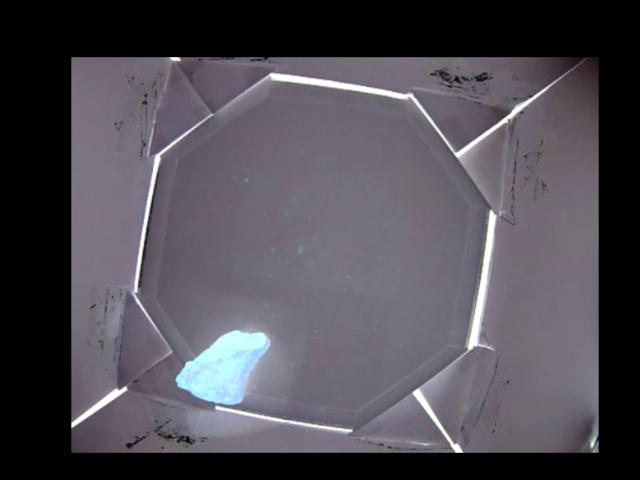Brisk: (174, 329, 267, 404)
